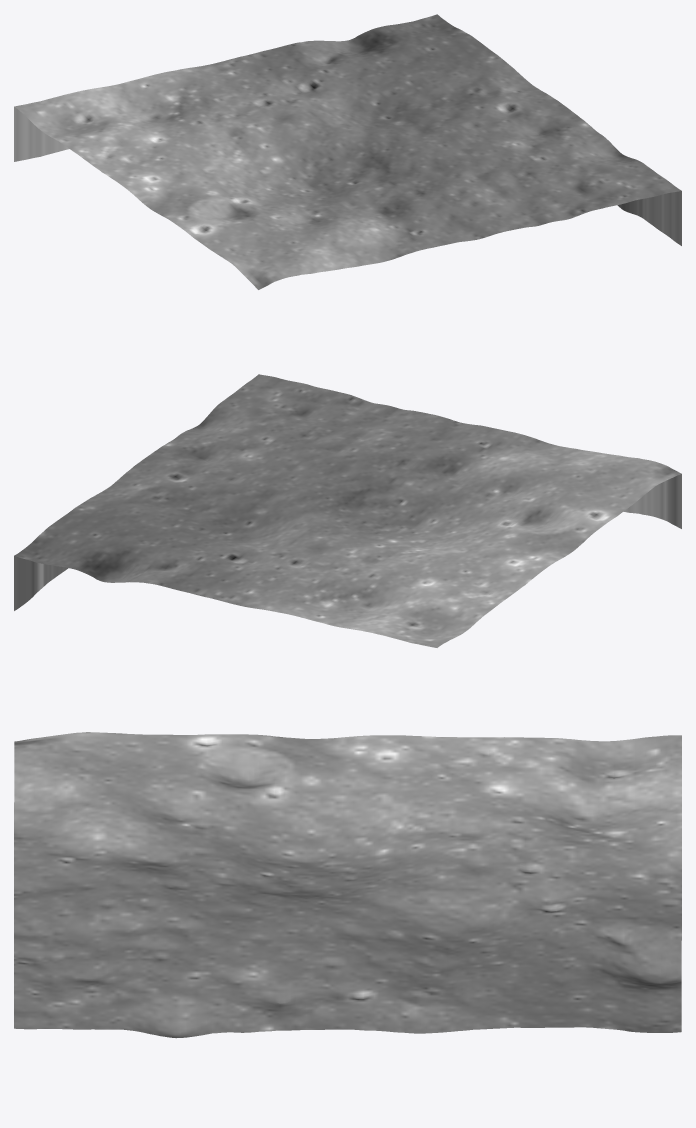
The picture shows the model from 3 angles, top to bottom: view 1: azimuth 30°, elevation 25°; view 2: azimuth 150°, elevation 25°; view 3: azimuth 270°, elevation 25°; orthographic projection. The views are drawn at different scales.
Bounding box in the file's own units: 639 × 106 × 639.
1 material, 1 textured.
